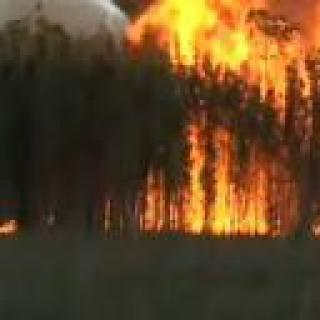fire: (151, 0, 320, 230), (6, 212, 16, 235)
